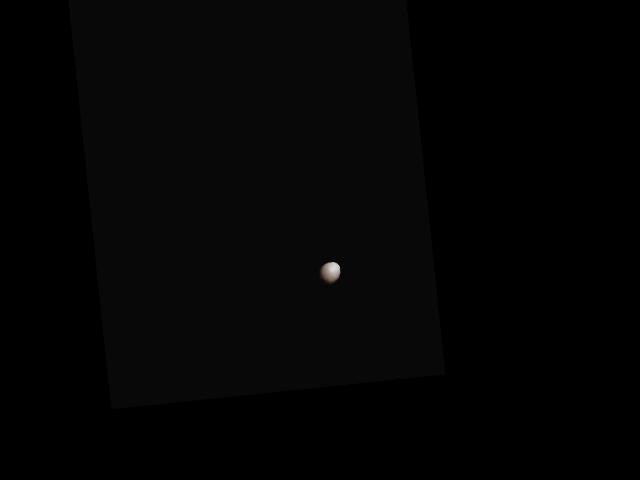egg: (317, 261, 341, 286)
